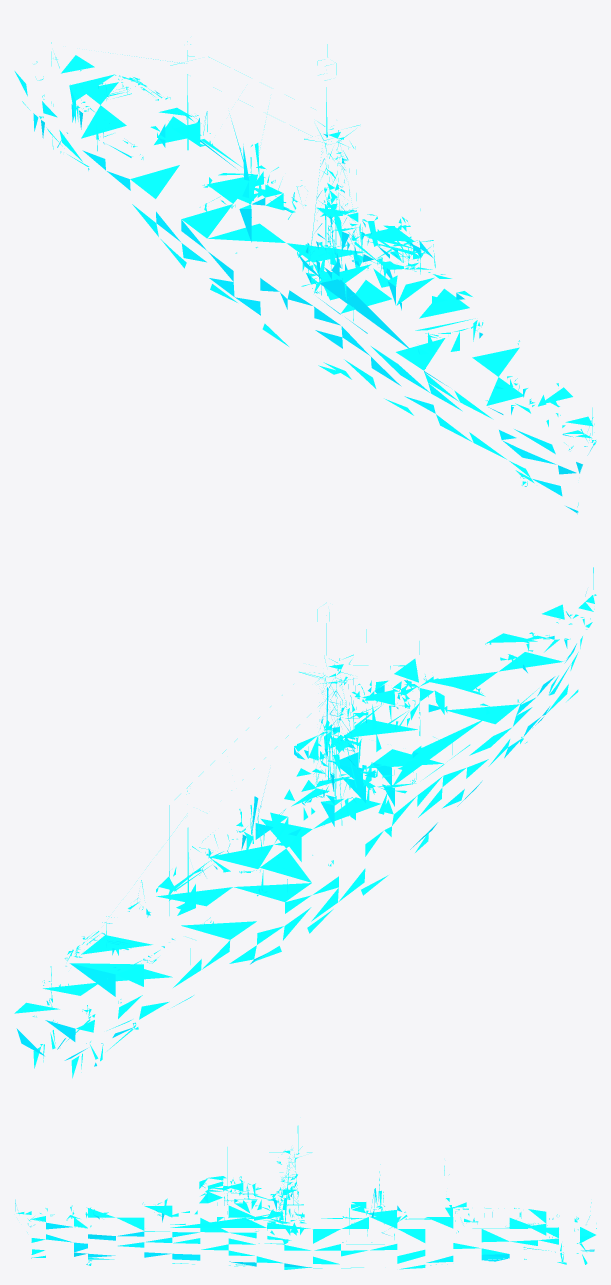
The model's file is Daring.glb.
3 views of the same model, one above another, from view 1: azimuth 30°, elevation 25°; view 2: azimuth 150°, elevation 25°; view 3: azimuth 270°, elevation 25° (orthographic). The views are drawn at different scales.
Bounding box in the file's own units: 0.8724 × 2.37 × 7.9.
